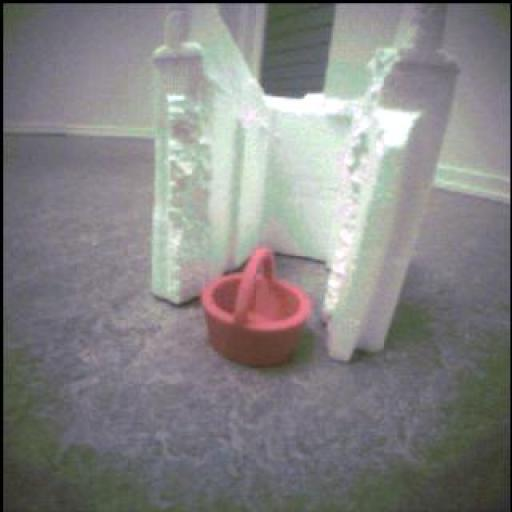Bucket: (203, 249, 312, 367)
